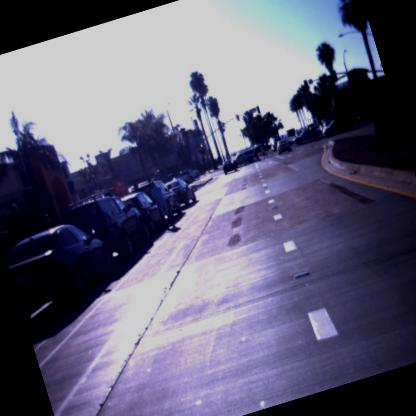trafficlight: (197, 142, 204, 154), (234, 112, 240, 122)
